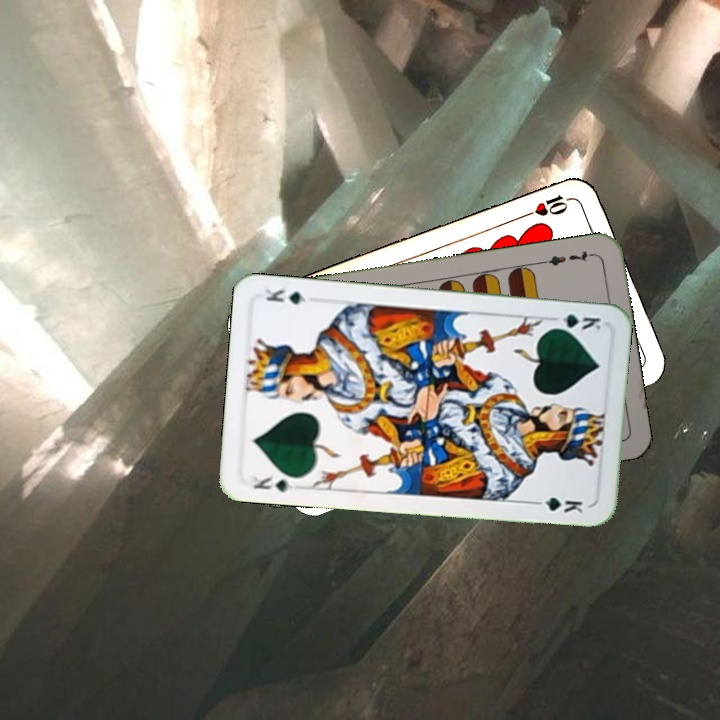E7: (538, 246, 597, 269)
GK: (546, 309, 606, 333), (246, 471, 295, 495)
H10: (518, 191, 575, 221)
